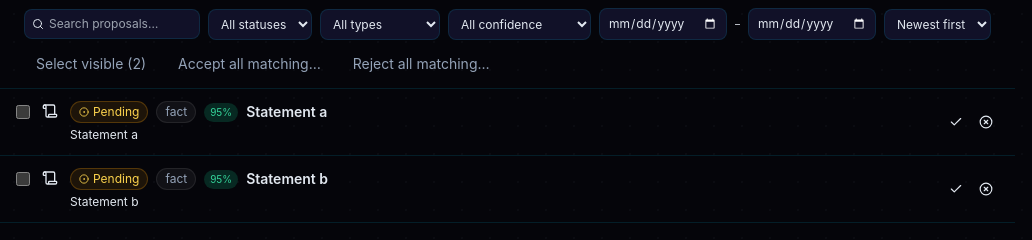
Test: ReviewWorkbench — selection and bulk verdicts (F2-3c) › per-row checkbox toggles selection
The width and height of the screenshot is (1032, 240).
Click the checkbox named "select proposal statement a". click: x=23, y=112
box: left=16, top=105, right=30, bottom=119
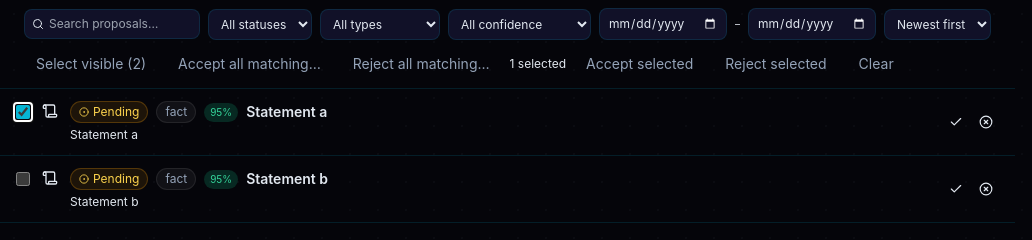
Expected: the text "1 selected" is shown, left=510, top=56, right=566, bottom=72
Click the checkbox named "select proposal statement a". click: x=23, y=112
box: left=16, top=105, right=30, bottom=119
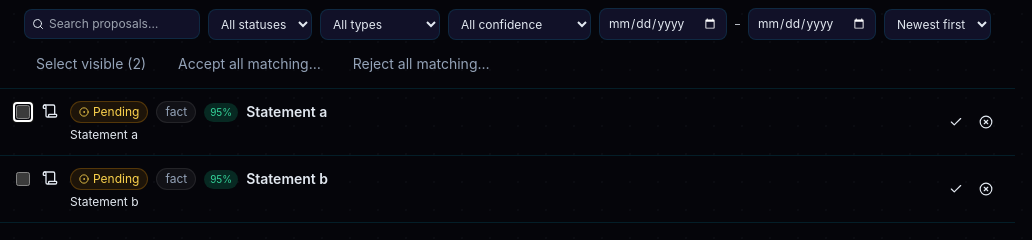
Expected: the text "selected" is gone
